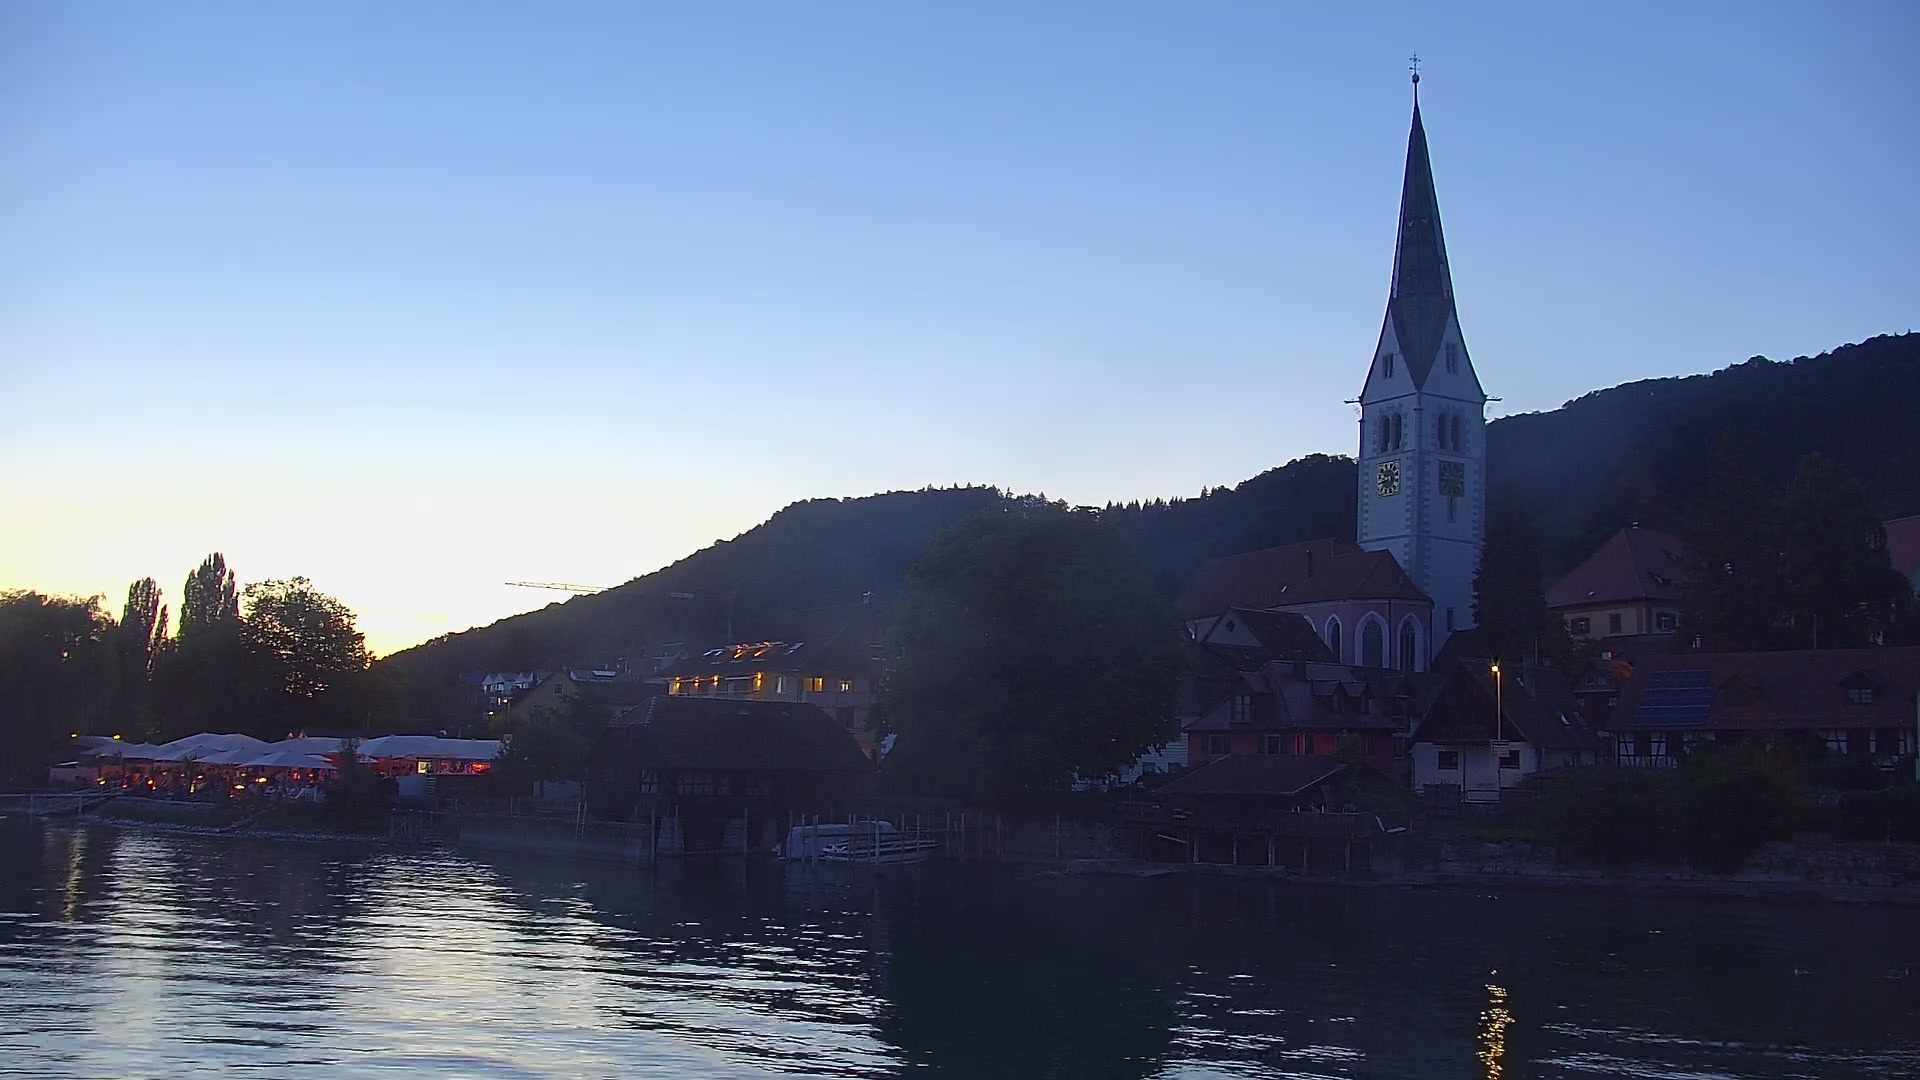sea: (818, 819, 943, 862)
